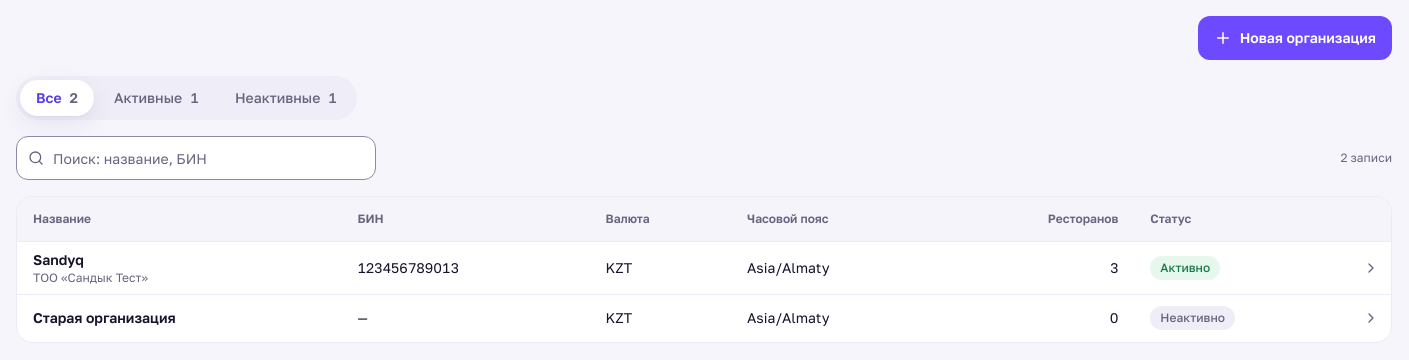
Test: «Организации» (W2-ADM-06) › filters by status tab and search, with counters on the tabs
Expected: the tab "Активные 1" is shown, [98,80,215,116]
Click the tab "Неактивные 1": [286, 98] box [219,80,353,116]
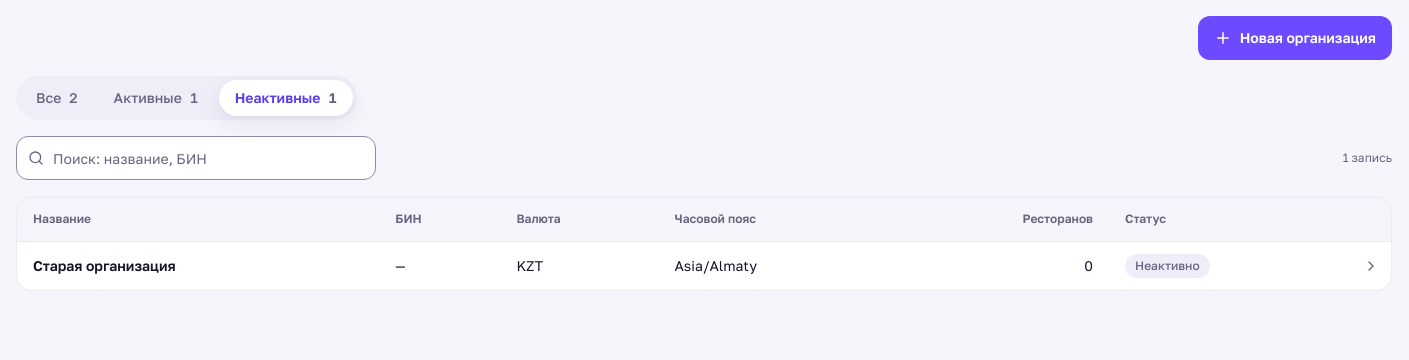
Expected: the text "Старая организация" is shown, [33,256,176,274]
Expected: the text "123456789013" is gone
Expected: the text "1 запись" is shown, [1343,150,1392,166]
Click the tab "Все 2": [57, 98] box [20,80,94,116]
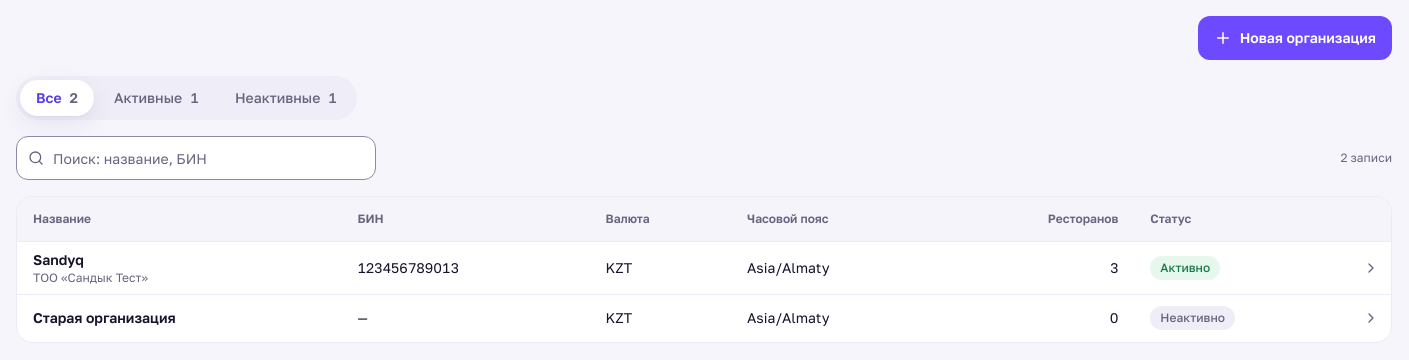
In the search field named "Поиск организаций": [196, 158] box [16,136,376,180], type "12345"
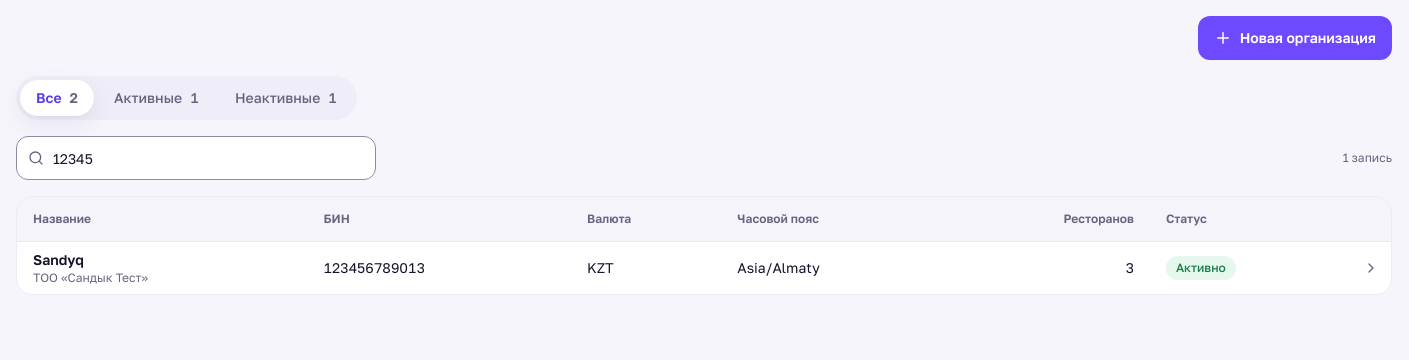
Expected: the text "Sandyq" is shown, [33,250,84,268]
Expected: the text "Старая организация" is gone
